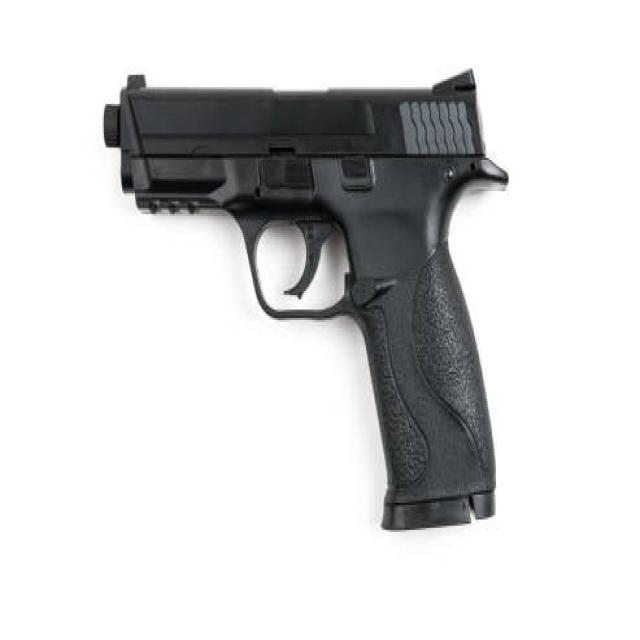pistol: (98, 56, 515, 540)
